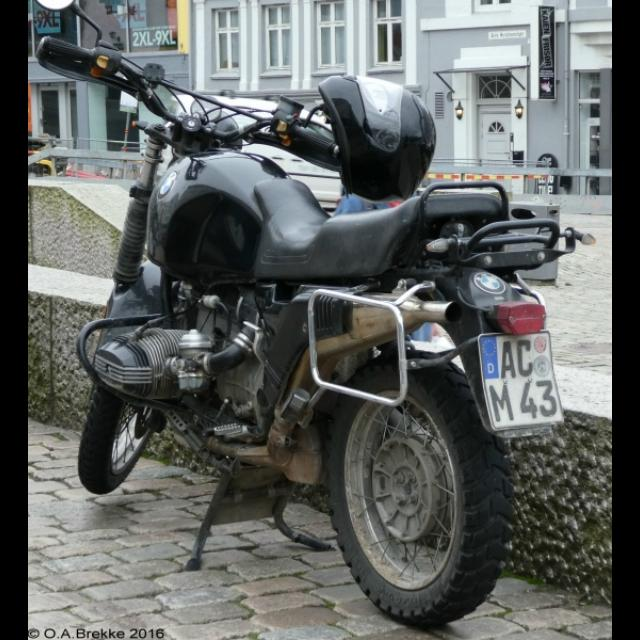d_license_plate: (476, 328, 566, 428)
